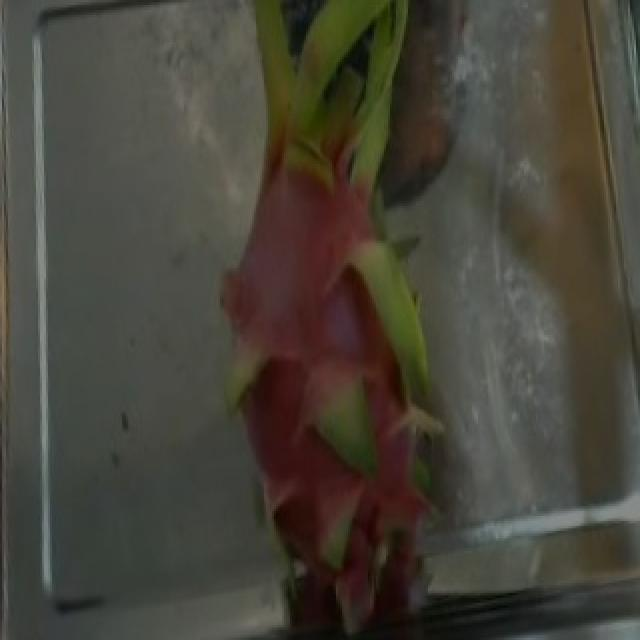fruit: (164, 171, 544, 635)
